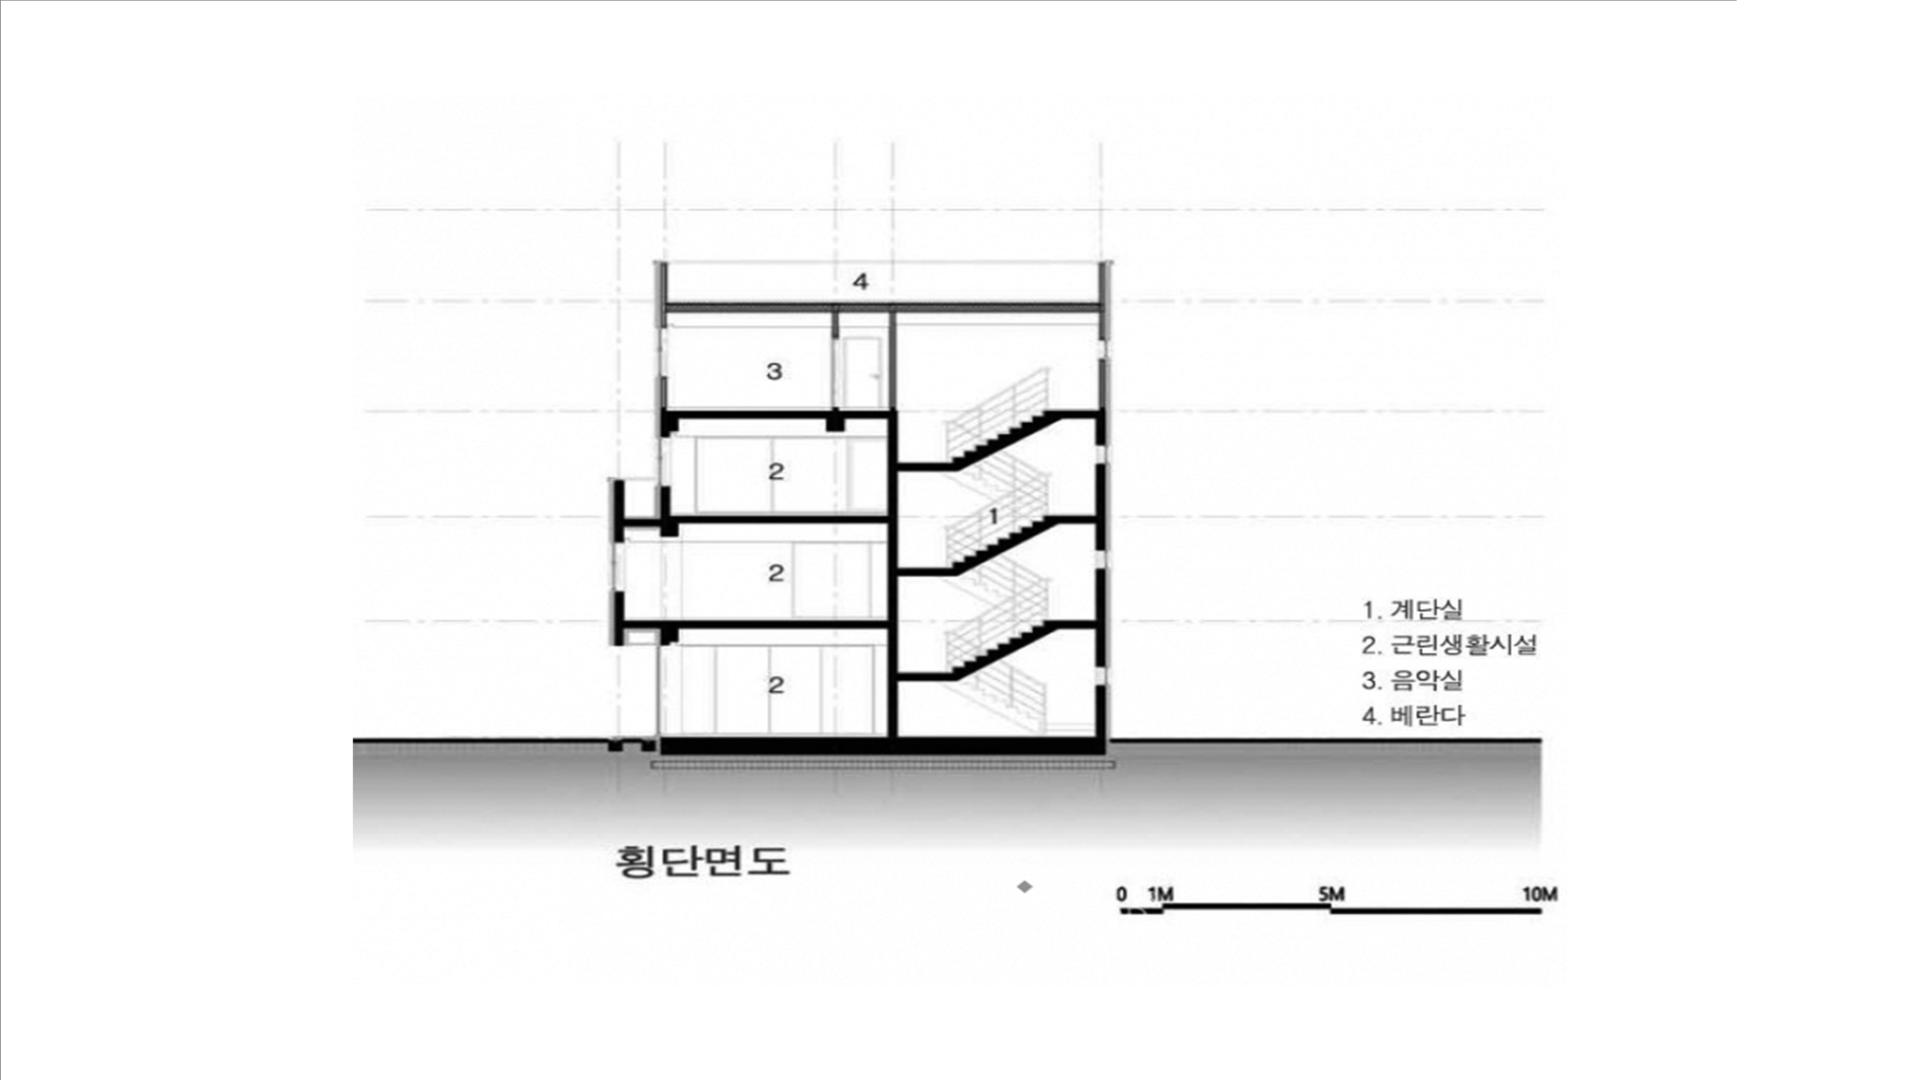door: (794, 542, 872, 618), (696, 436, 773, 512), (845, 336, 882, 406), (659, 645, 671, 737), (832, 338, 839, 407)
wall: (612, 576, 952, 737), (657, 261, 1110, 339), (613, 480, 952, 576), (659, 686, 1106, 756), (657, 377, 898, 438), (887, 418, 952, 516), (1056, 568, 1106, 666), (1056, 464, 1106, 550), (1062, 359, 1109, 446), (887, 311, 898, 407), (831, 311, 839, 339)
window: (770, 645, 822, 735), (717, 645, 769, 735), (822, 646, 873, 735), (682, 645, 717, 735), (612, 542, 625, 592), (657, 438, 670, 487), (657, 327, 667, 377), (1098, 339, 1109, 359), (1096, 666, 1106, 686), (1096, 446, 1106, 464), (1096, 550, 1106, 568)
